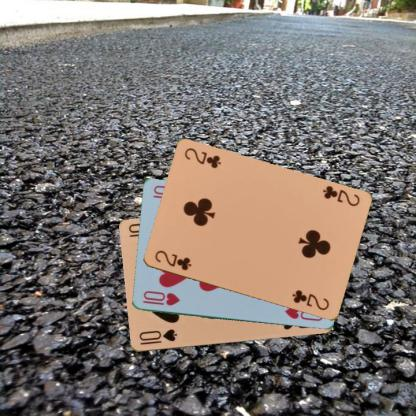10h: (140, 288, 181, 308)
10s: (136, 326, 178, 346)
2c: (320, 183, 360, 208), (152, 248, 192, 272)
